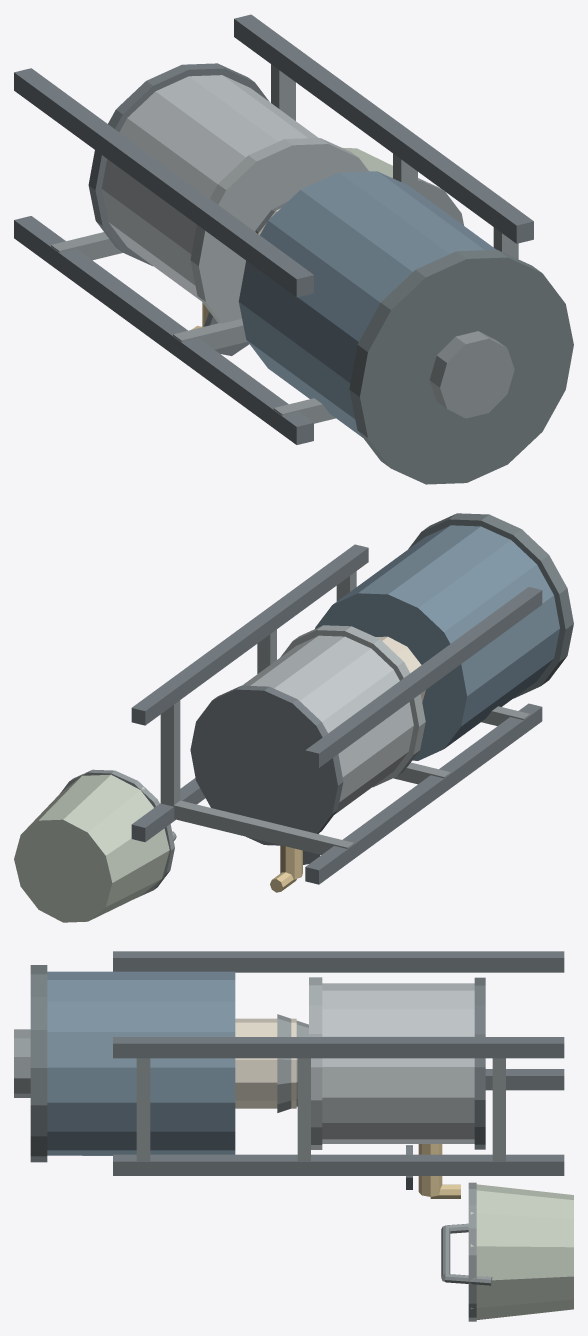
File: 07_gravity_water_filter.glb
The picture shows the model from 3 angles, top to bottom: view 1: azimuth 30°, elevation 25°; view 2: azimuth 150°, elevation 25°; view 3: azimuth 270°, elevation 25°; orthographic projection. The views are drawn at different scales.
Visible parts, largest first — view 1: upper_tank_lid_0012, upper_filter_tank_0011, lower_collecting_tank_0014, collector_lid_0015, support_frame_leg_0002, support_frame_leg_0004, support_frame_leg_0001, lid_dome_0013, collector_base_0016, stand_crossbar_left_to_right_0007, stand_crossbar_left_to_right_0005, stand_crossbar_depth_0006 (+2 smaller); view 2: upper_filter_tank_0011, collector_base_0016, portable_basin_0025, lower_collecting_tank_0014, support_frame_leg_0004, support_frame_leg_0002, support_frame_leg_0001, upper_tank_lid_0012, stand_crossbar_left_to_right_0005, collector_lid_0015, stand_crossbar_depth_0006, support_frame_leg_0003 (+5 smaller); view 3: upper_filter_tank_0011, lower_collecting_tank_0014, portable_basin_0025, support_frame_leg_0004, support_frame_leg_0002, support_frame_leg_0003, upper_tank_lid_0012, tank_filter_stage_0017, collector_lid_0015, collector_base_0016, stand_crossbar_depth_0010, support_frame_leg_0001 (+7 smaller).
Boxes of the visible parts, x1,y1,x2,y2 form: upper_tank_lid_0012: [349, 249, 573, 484]; upper_filter_tank_0011: [238, 171, 496, 437]; lower_collecting_tank_0014: [101, 75, 318, 300]; collector_lid_0015: [190, 138, 368, 323]; support_frame_leg_0002: [14, 68, 313, 297]; support_frame_leg_0004: [234, 14, 533, 243]; support_frame_leg_0001: [14, 216, 313, 444]; lid_dome_0013: [429, 331, 514, 418]; collector_base_0016: [88, 63, 269, 266]; stand_crossbar_left_to_right_0007: [173, 319, 247, 349]; stand_crossbar_left_to_right_0005: [51, 232, 122, 260]; stand_crossbar_depth_0006: [271, 64, 295, 120]; upper_filter_tank_0011: [315, 525, 559, 760]; collector_base_0016: [190, 685, 343, 845]; portable_basin_0025: [14, 773, 169, 922]; lower_collecting_tank_0014: [242, 635, 413, 814]; support_frame_leg_0004: [131, 544, 368, 725]; support_frame_leg_0002: [305, 587, 542, 767]; support_frame_leg_0001: [305, 703, 542, 884]; upper_tank_lid_0012: [408, 513, 573, 698]; stand_crossbar_left_to_right_0005: [160, 800, 354, 854]; collector_lid_0015: [280, 625, 425, 787]; stand_crossbar_depth_0006: [160, 700, 180, 806]; support_frame_leg_0003: [131, 778, 205, 842]; upper_filter_tank_0011: [47, 971, 235, 1155]; lower_collecting_tank_0014: [322, 983, 474, 1143]; portable_basin_0025: [470, 1184, 573, 1320]; support_frame_leg_0004: [113, 1037, 564, 1058]; support_frame_leg_0002: [113, 951, 564, 972]; support_frame_leg_0003: [113, 1154, 564, 1175]; upper_tank_lid_0012: [30, 965, 47, 1162]; tank_filter_stage_0017: [235, 1018, 296, 1108]; collector_lid_0015: [309, 977, 322, 1149]; collector_base_0016: [474, 977, 485, 1149]; stand_crossbar_depth_0010: [136, 1058, 150, 1161]; support_frame_leg_0001: [485, 1069, 564, 1090].
Size of the model in its own units: 0.9578 by 0.76 by 1.46.
